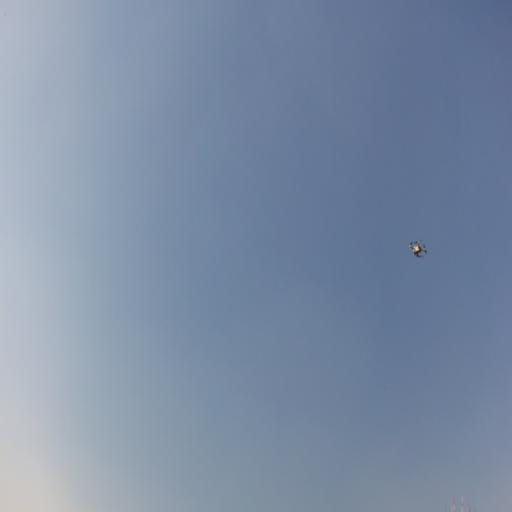drones: (407, 236, 430, 263)
